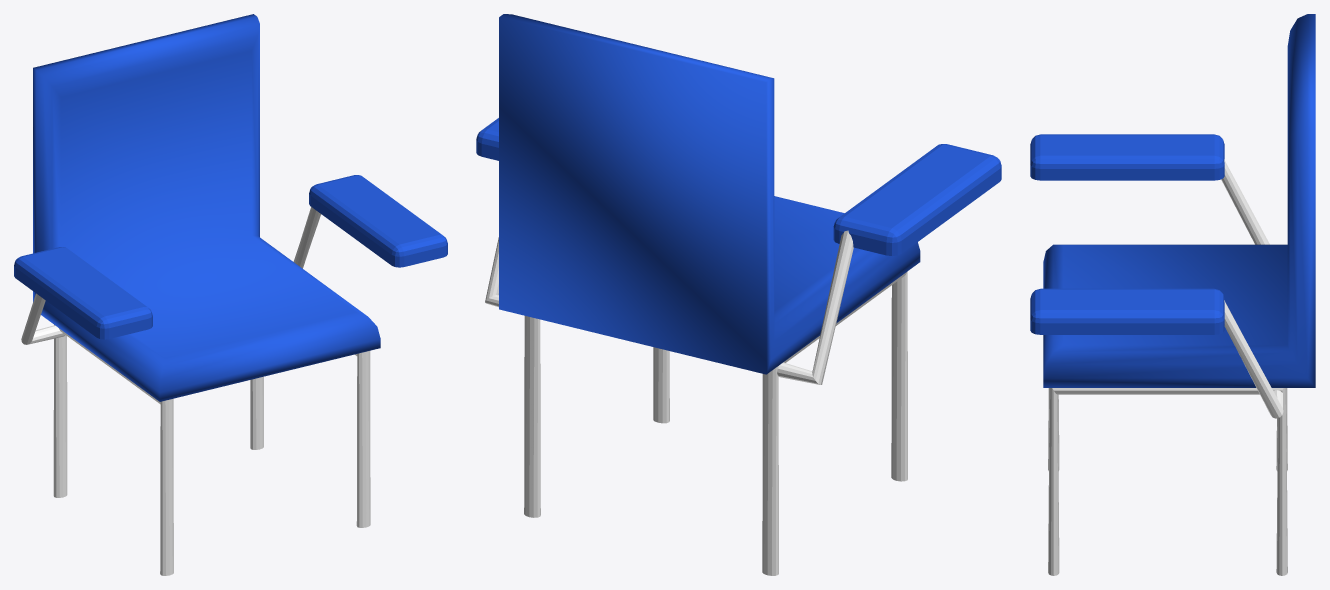
3 views of the same model, side by side, from view 1: azimuth 30°, elevation 25°; view 2: azimuth 150°, elevation 25°; view 3: azimuth 270°, elevation 25° (orthographic). The views are drawn at different scales.
Parts seen in each view (by area): view 1: MA-16; view 2: MA-16; view 3: MA-16.
Part boxes in pixels (bbox=[...]): MA-16: bbox=[14, 14, 447, 575]; MA-16: bbox=[476, 14, 1001, 575]; MA-16: bbox=[1030, 14, 1315, 575].
Bounding box in the file's own units: 69.5 × 79.53 × 45.74.
